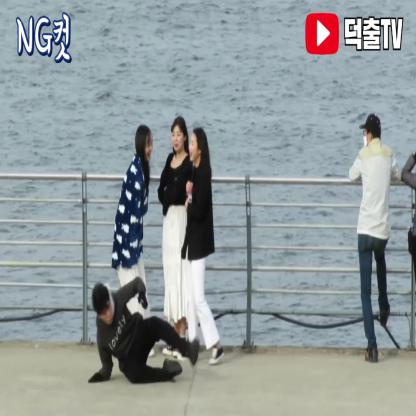Fall_Down: (88, 276, 200, 384)
